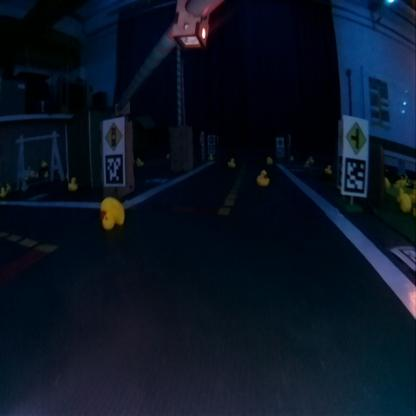Duckie: (99, 198, 123, 228), (257, 170, 269, 185), (68, 178, 77, 190), (324, 164, 331, 172), (228, 157, 234, 165)
Intersection sign: (344, 120, 366, 154)
QR code: (342, 157, 366, 193), (103, 152, 124, 184)
Signal sign: (106, 121, 122, 150)
Traffic light: (173, 0, 208, 48)
